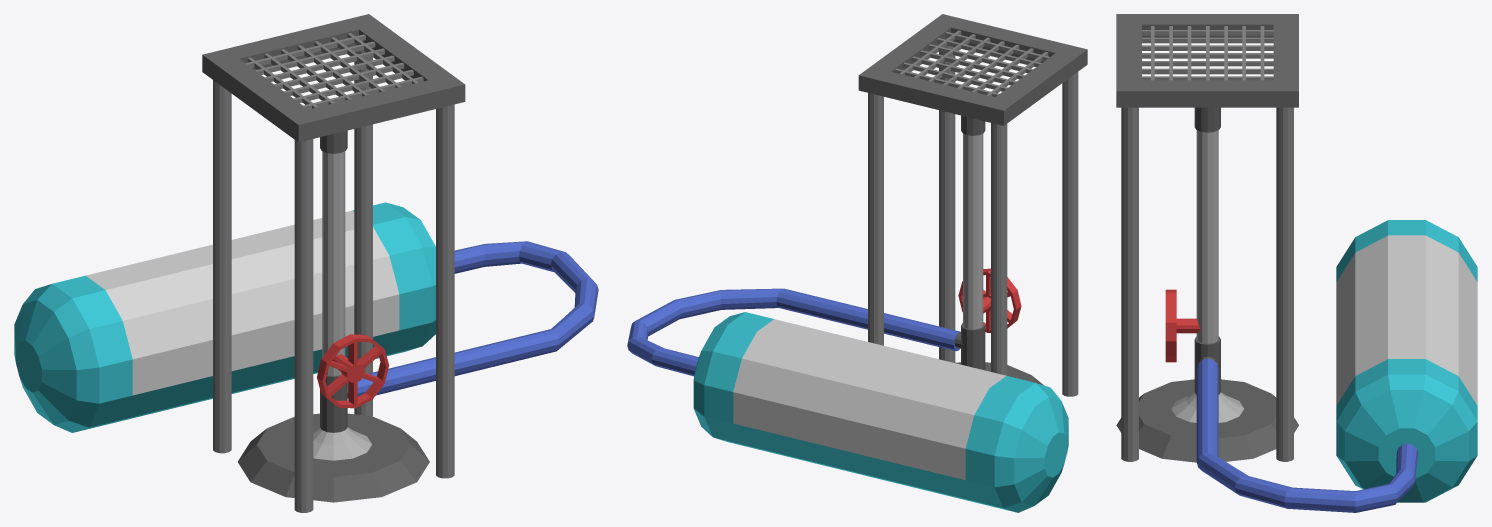
File: Bunsen Burner.fbx
3 views of the same model, side by side, from view 1: azimuth 30°, elevation 25°; view 2: azimuth 150°, elevation 25°; view 3: azimuth 270°, elevation 25° (orthographic). The views are drawn at different scales.
Visible parts, largest first — view 1: Bunsen Burner, Bunsen Burner Stand, Wheel; view 2: Bunsen Burner, Bunsen Burner Stand, Wheel; view 3: Bunsen Burner, Bunsen Burner Stand, Wheel.
Boxes of the visible parts, x1,y1,x2,y2 form: Bunsen Burner: (14, 130, 598, 502); Bunsen Burner Stand: (202, 14, 465, 512); Wheel: (317, 334, 389, 408); Bunsen Burner: (627, 115, 1068, 512); Bunsen Burner Stand: (858, 14, 1087, 396); Wheel: (958, 268, 1021, 332); Bunsen Burner: (1116, 107, 1477, 512); Bunsen Burner Stand: (1116, 14, 1298, 461); Wheel: (1165, 289, 1199, 362).
Size of the model in its own units: 4.94 by 3.6 by 3.16.
